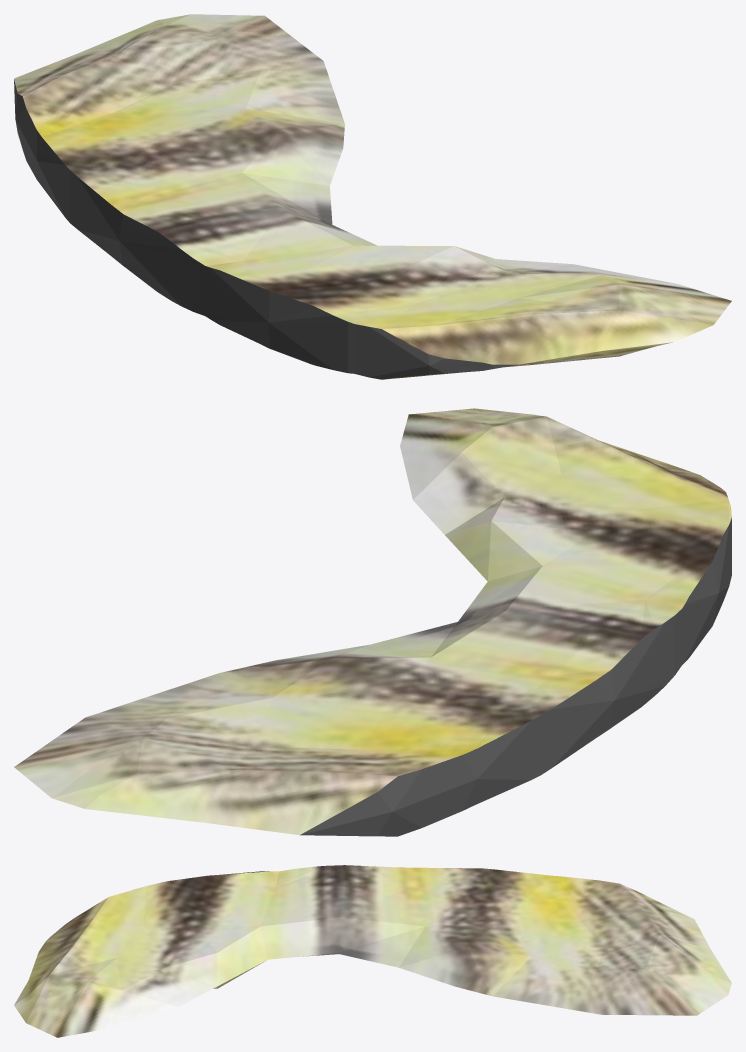
The picture shows the model from 3 angles, top to bottom: view 1: azimuth 30°, elevation 25°; view 2: azimuth 150°, elevation 25°; view 3: azimuth 270°, elevation 25°; orthographic projection. The views are drawn at different scales.
Visible parts, largest first — view 1: link_15_visual; view 2: link_15_visual; view 3: link_15_visual.
Boxes of the visible parts, x1=… form: link_15_visual: x1=14, y1=14, x2=731, y2=379; link_15_visual: x1=14, y1=408, x2=731, y2=836; link_15_visual: x1=14, y1=865, x2=731, y2=1037.
Size of the model in its own units: 0.00202 by 0.000294 by 0.00404.
Materials: 1 (1 with a texture image).
